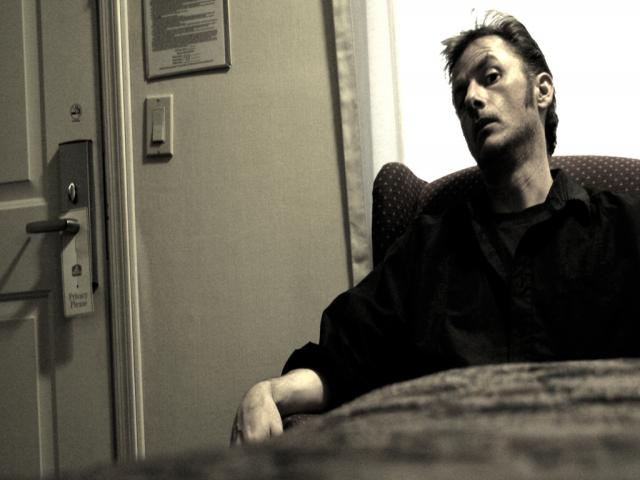Door-handle: (22, 138, 104, 300)
